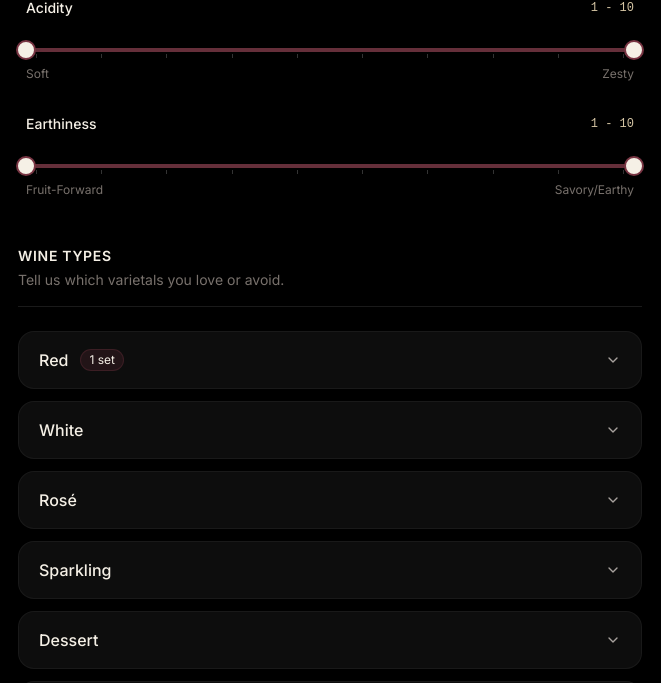
Test case: Preferences Refactor › loads existing preferences correctly
(page scrolled)
Expected: the heading "Wine Types" is shown, [18,247,112,264]
// Open Red category to see Merlot
Click the text "Red" at (54, 360), box [39,348,68,372]
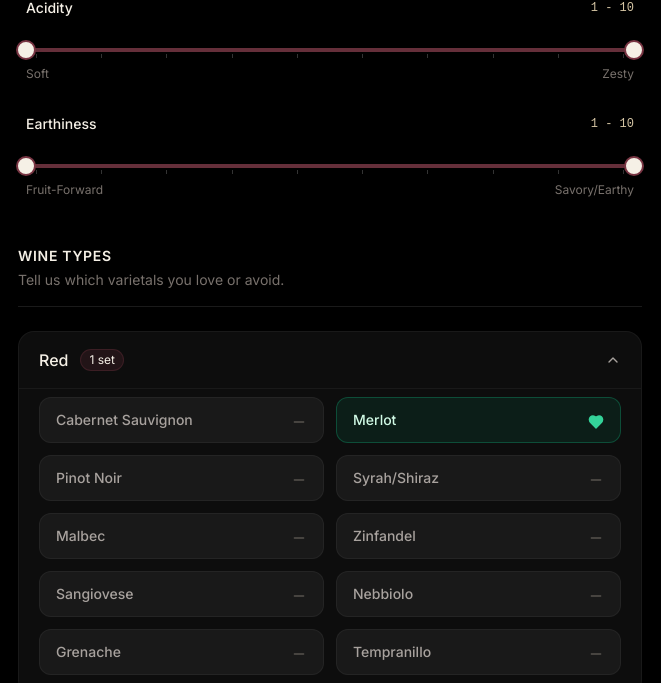
Expected: the text "Merlot" is shown, [353,410,396,430]
